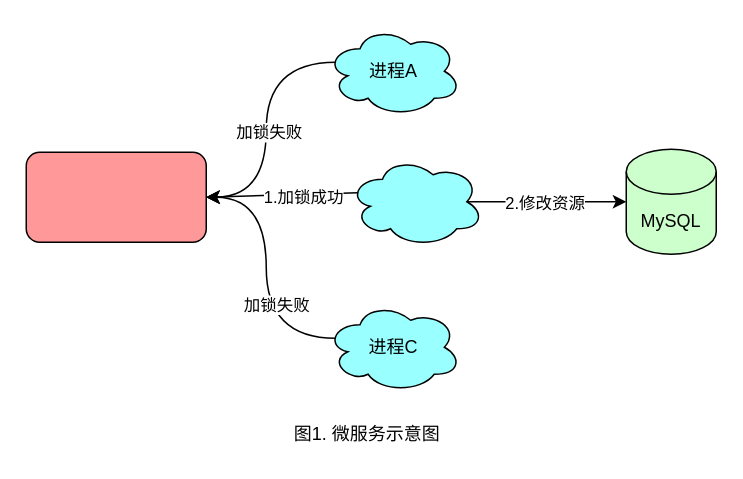
Some shapes in this 743 by 479 pixel diagram are drawn without their labels. Each missing label, with the centre of its shape:
"进程B" belongs at (x=415, y=201).
"锁服务 （有互斥能力）" belongs at (x=115, y=196).
